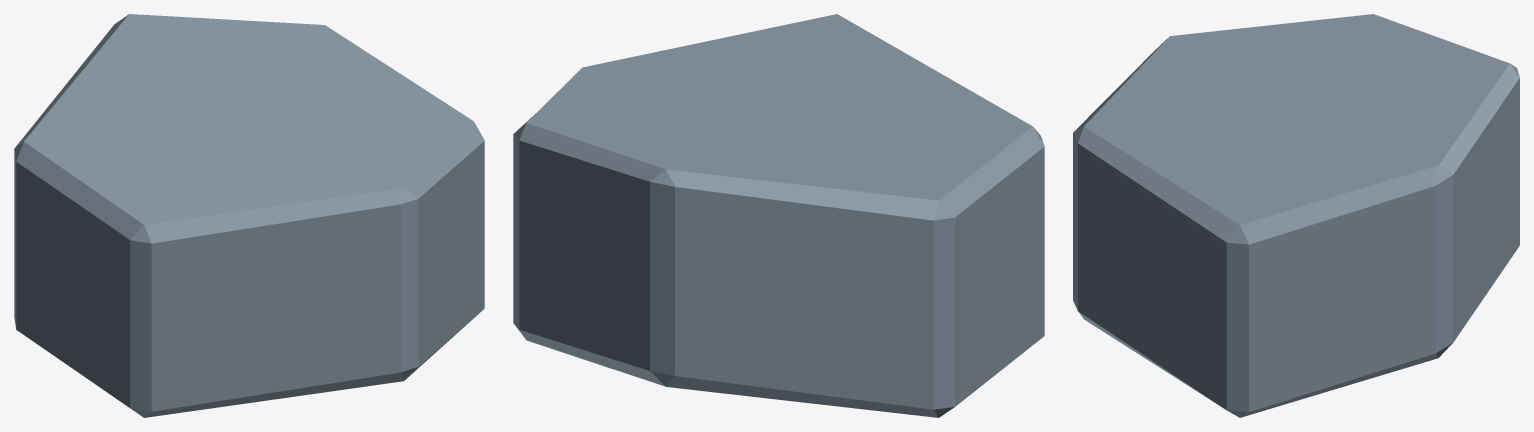
File: fx_shard_stone.glb
The picture shows the model from 3 angles, left to right: view 1: azimuth 30°, elevation 25°; view 2: azimuth 150°, elevation 25°; view 3: azimuth 270°, elevation 25°; orthographic projection. The views are drawn at different scales.
Parts seen in each view (by area): view 1: fx_shard_stone; view 2: fx_shard_stone; view 3: fx_shard_stone.
Boxes of the visible parts, left/top/right/bottom form: fx_shard_stone: left=14, top=14, right=484, bottom=417; fx_shard_stone: left=513, top=14, right=1044, bottom=417; fx_shard_stone: left=1073, top=14, right=1519, bottom=417.
Size of the model in its own units: 0.6132 by 0.3663 by 0.5877.
